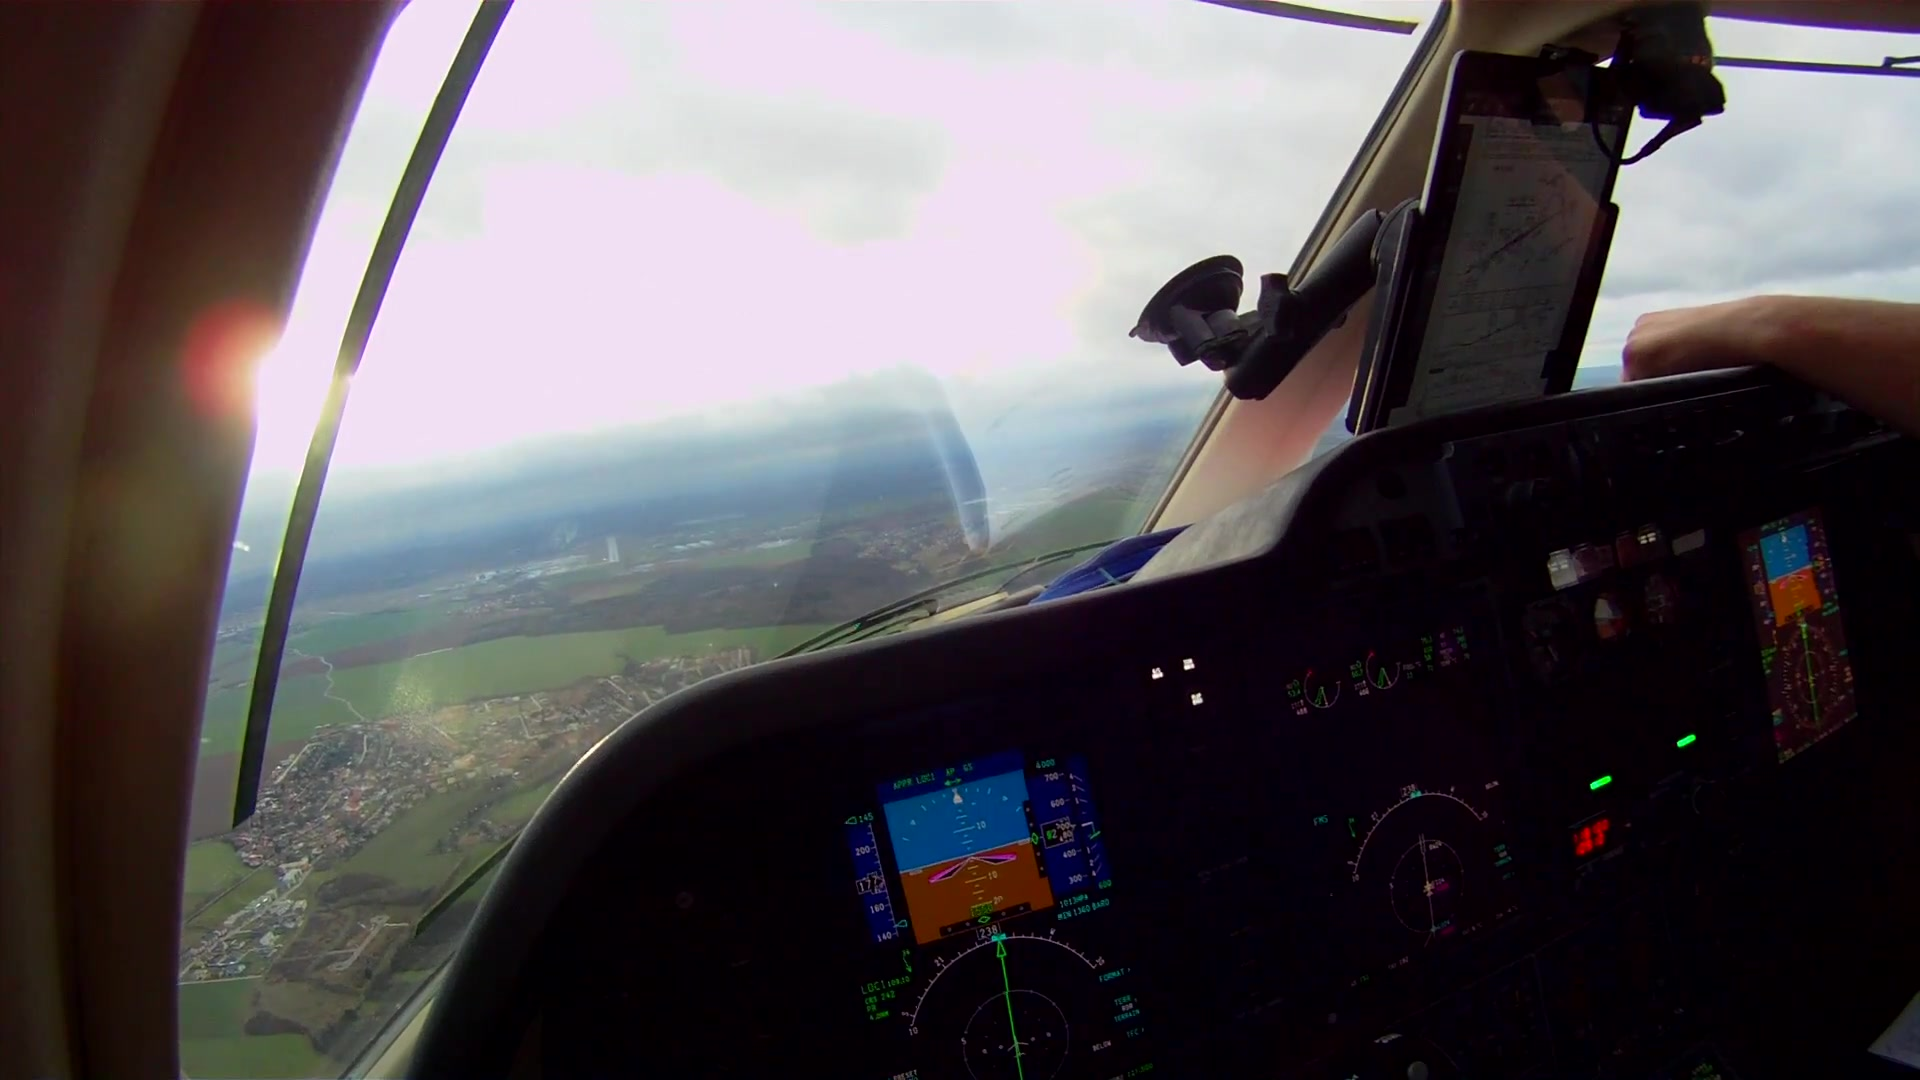runway: (607, 537, 622, 564)
